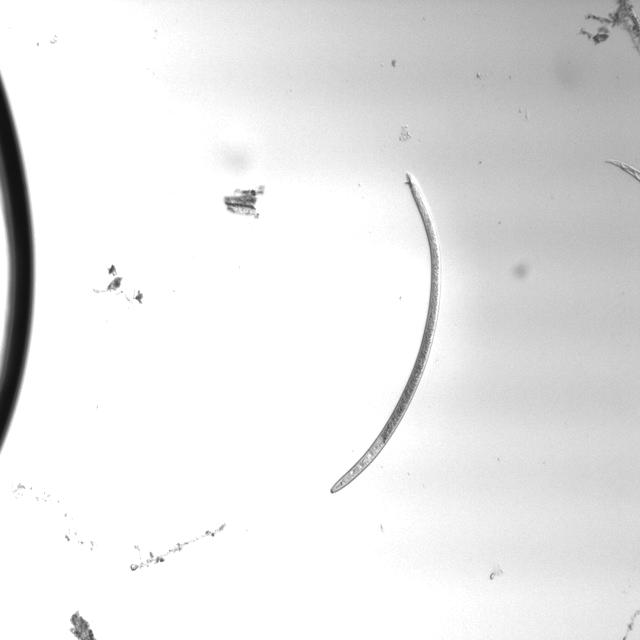Helicotylenchus: (322, 164, 442, 501)
